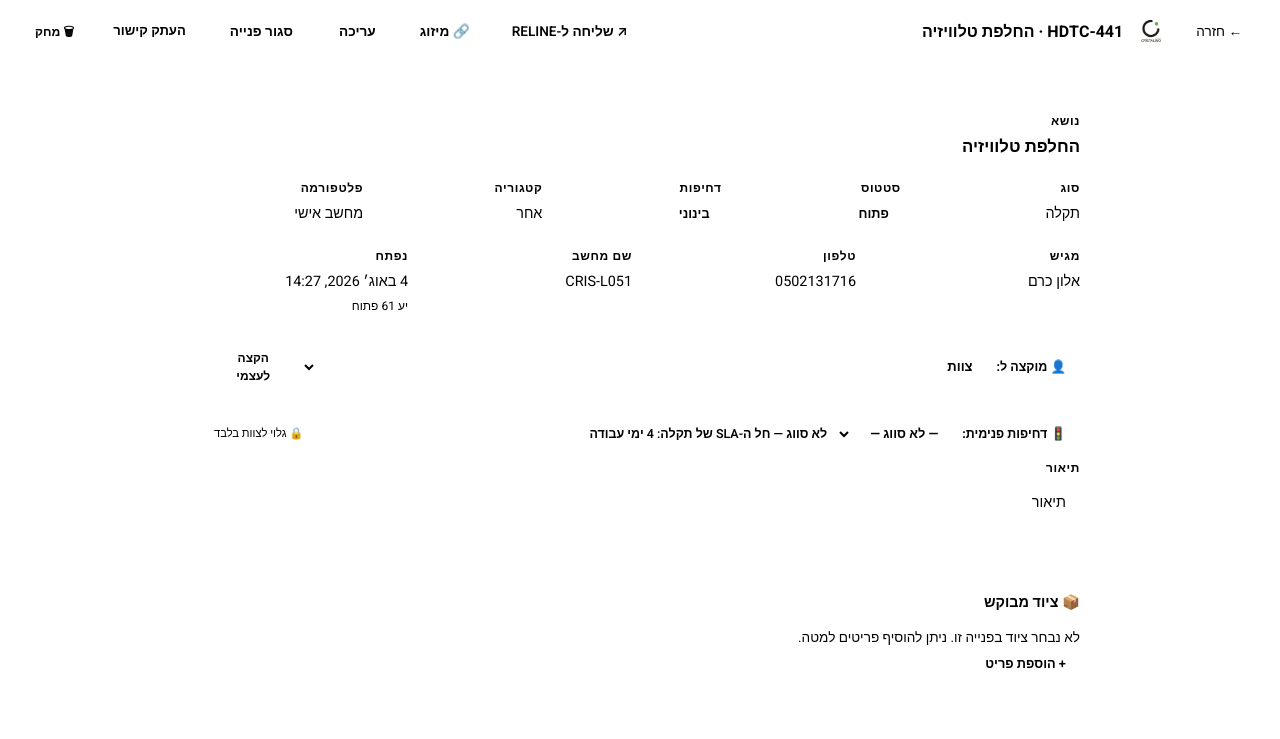
מגיש picker — the confirmation gate › asks before moving the ticket, naming both people
Expected: the heading "HDTC-441 · החלפת טלוויזיה" is shown, [922,20,1123,44]
Step 1. Click the button "עריכה" → (357, 32), box [323,16,392,48]
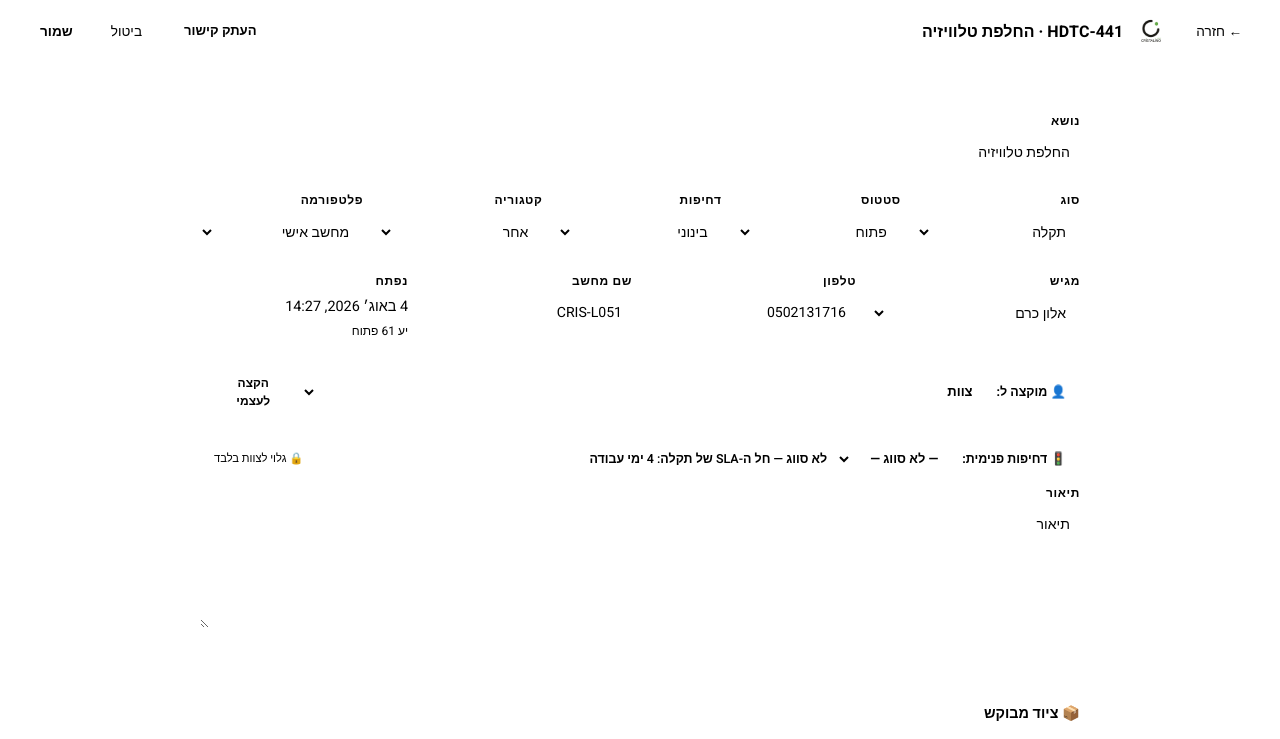
Step 2. Select "יוסי כהן" in the dropdown named "מגיש" → (976, 314), box [872,294,1080,333]
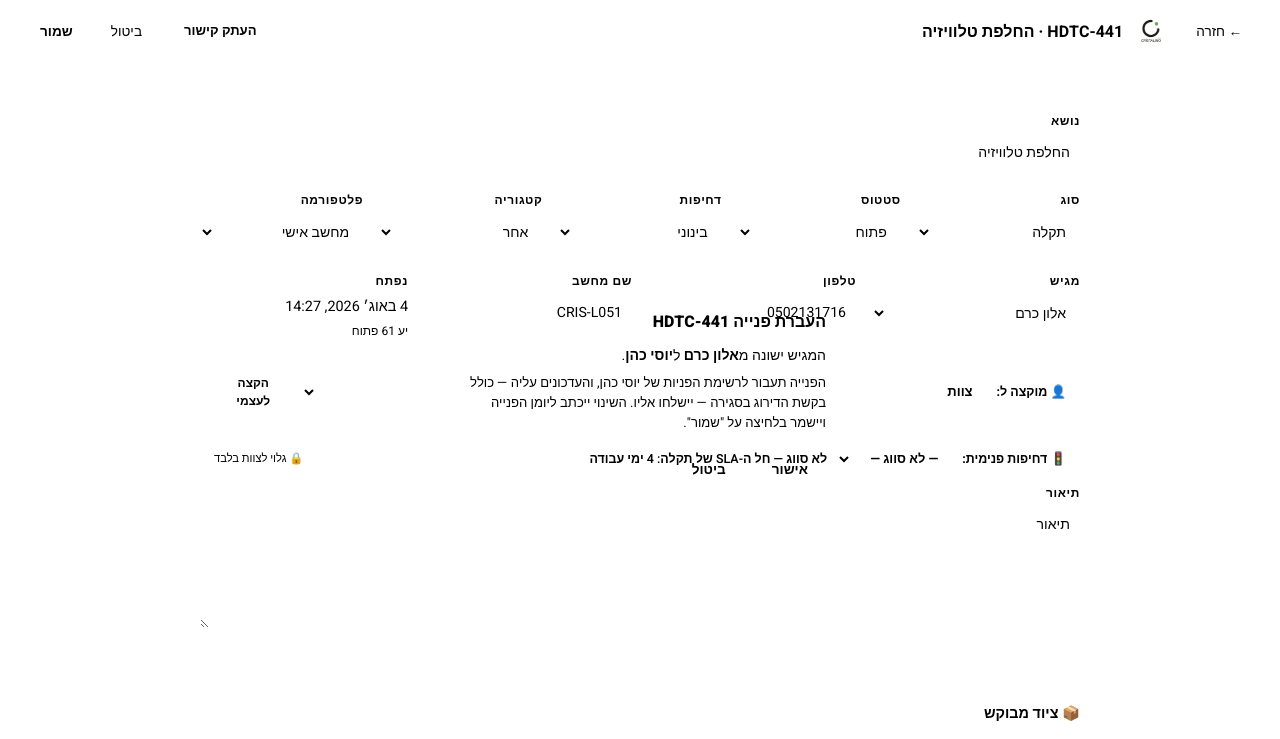
Result: the text "אלון כרם" is shown at [684,345,739,366]
Result: the text "יוסי כהן" is shown at [625,345,673,366]
